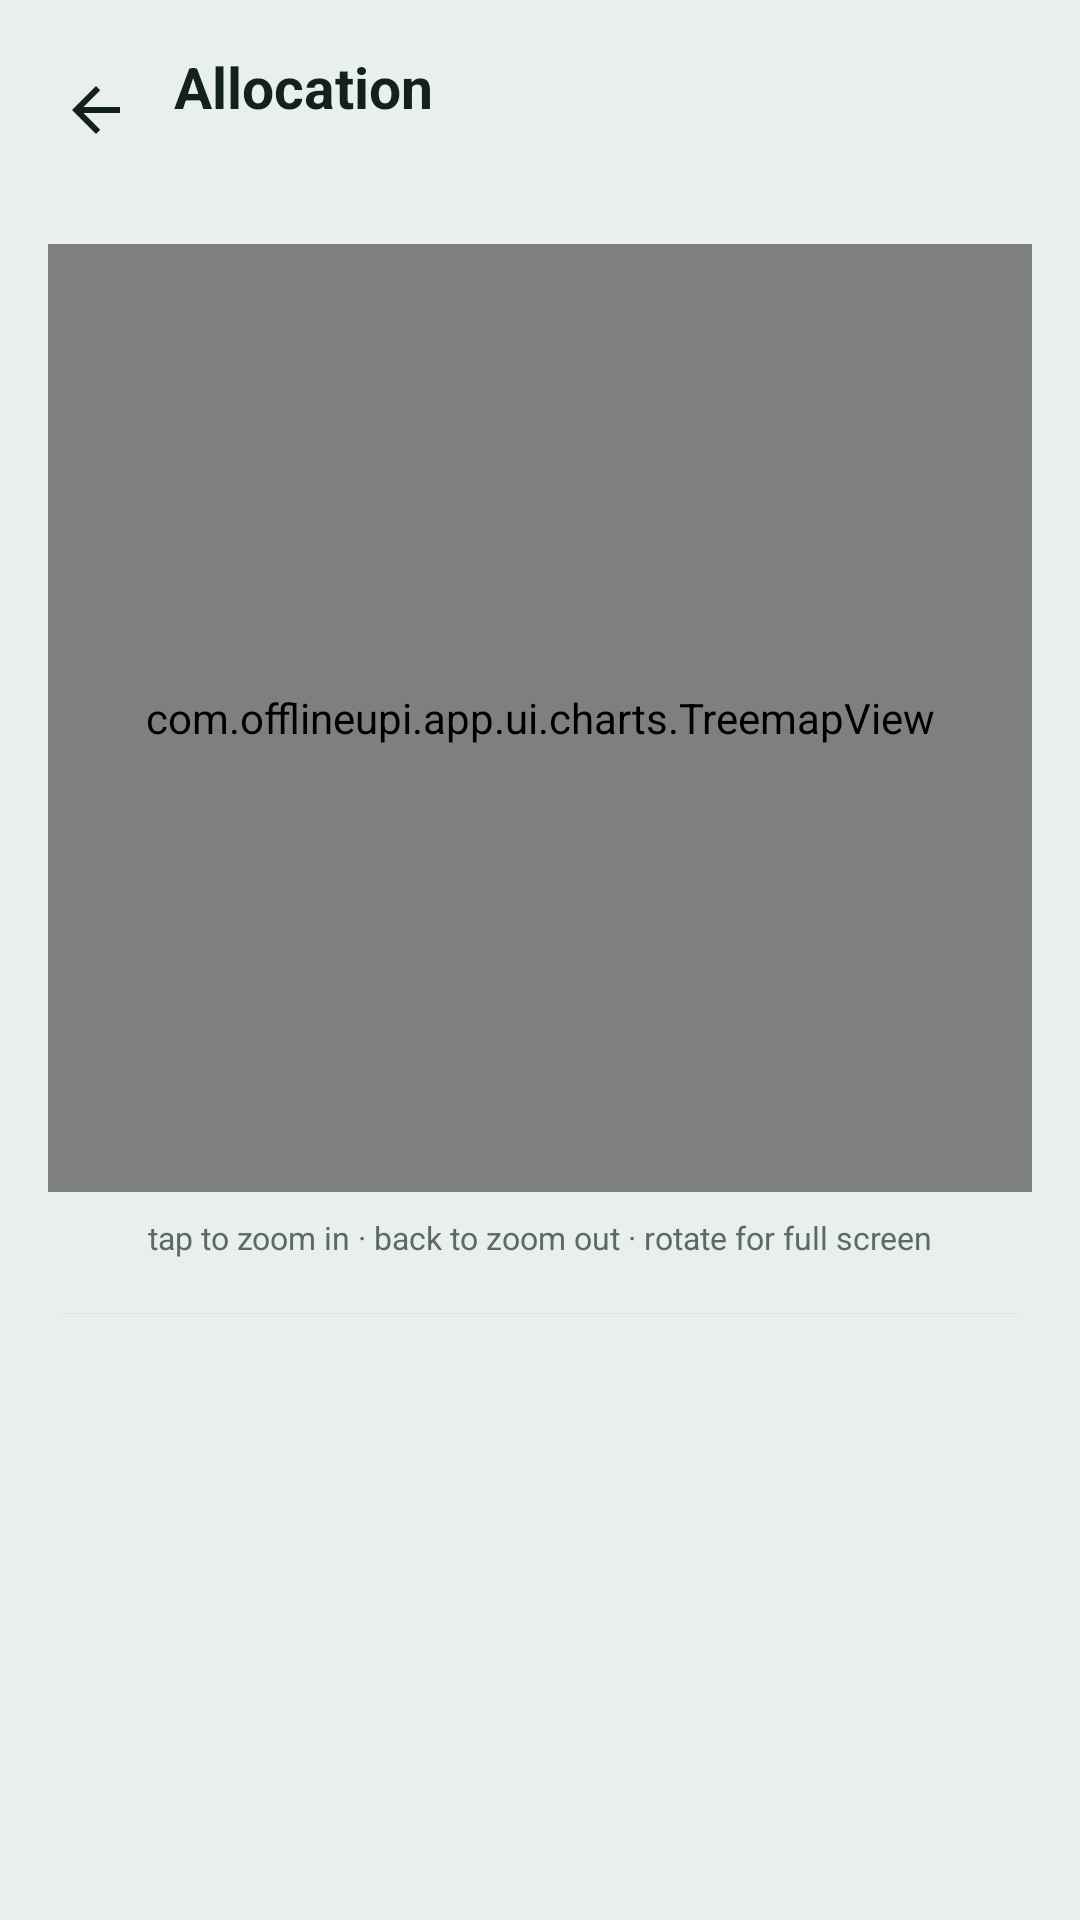

Named icons in this screenshot (1080x1920) and their bounding boxes, Rect(x1, y1, x2, y2):
Back: Rect(72, 86, 120, 134)
